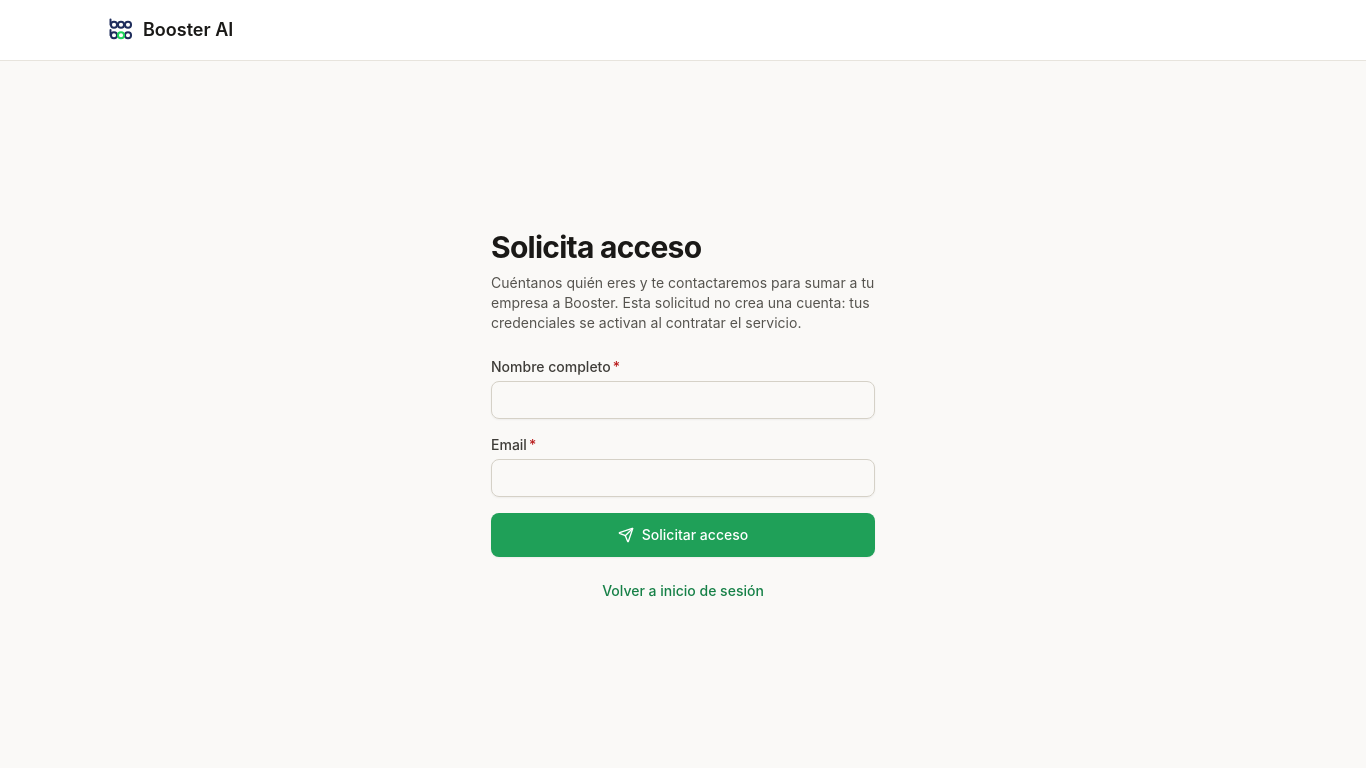
Test: SolicitarAccesoRoute — submit exitoso (anti-enumeración) › happy path → POST /api/v1/signup-request + mensaje neutro de éxito
Type "Felipe Vicencio" into the field labelled "Nombre completo*".
click(683, 400); type("Felipe Vicencio")  # box 491,380 -> 875,418
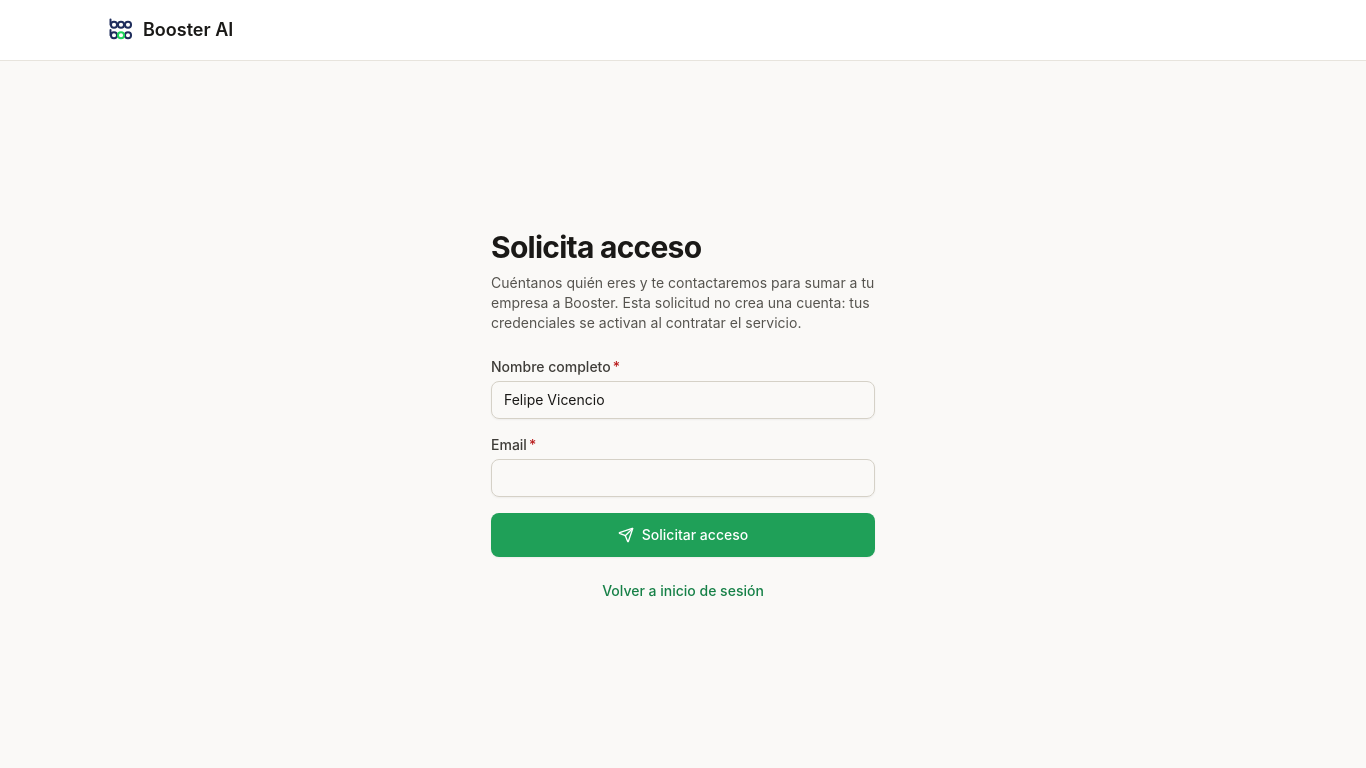
Type "felipe@empresa.cl" into the field labelled "Email*".
click(683, 478); type("felipe@empresa.cl")  # box 491,458 -> 875,496
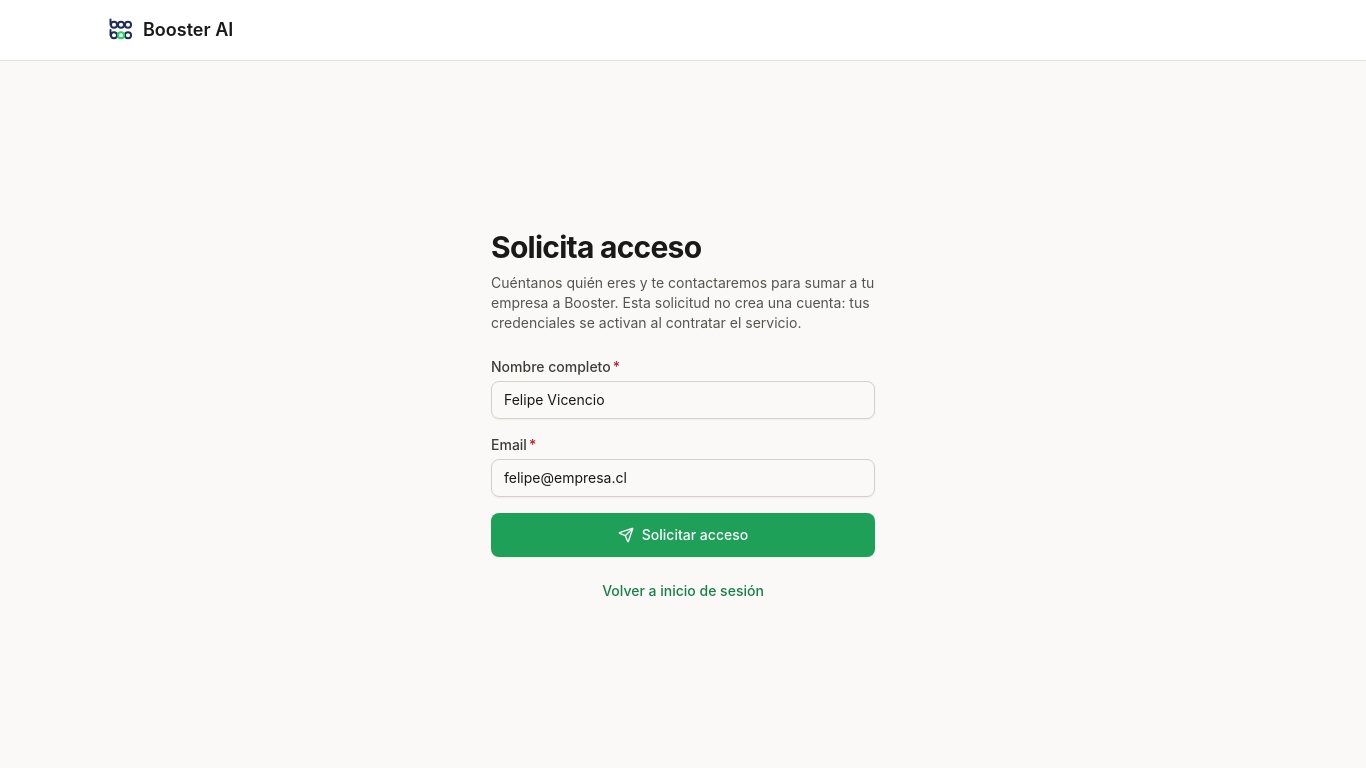
Click the button "Solicitar acceso".
click(683, 534)  # box 491,512 -> 875,556
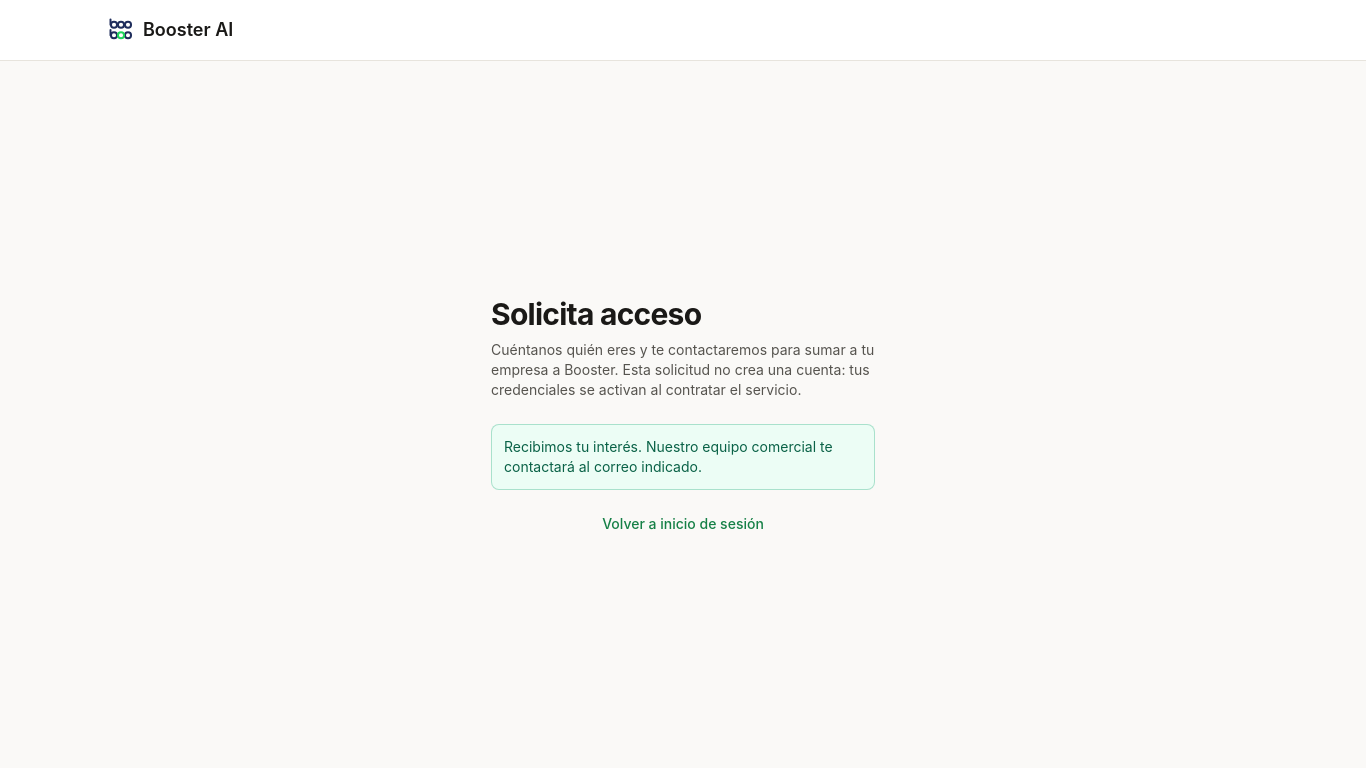
Result: the text "Recibimos tu interés. Nuestro equipo comercial te contactará al correo indicado." is shown at 491,424 -> 875,490
